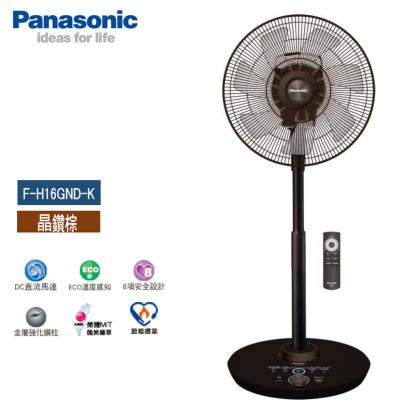fan: (206, 9, 382, 408)
